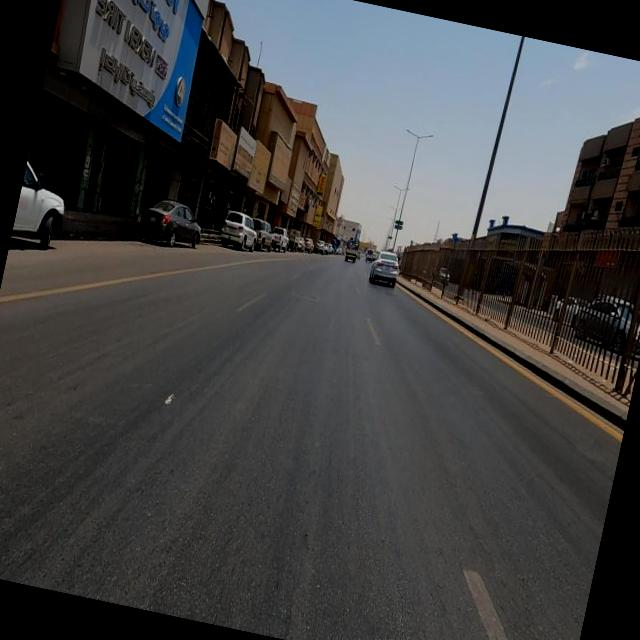debris: (215, 113, 298, 232), (250, 108, 322, 208)
